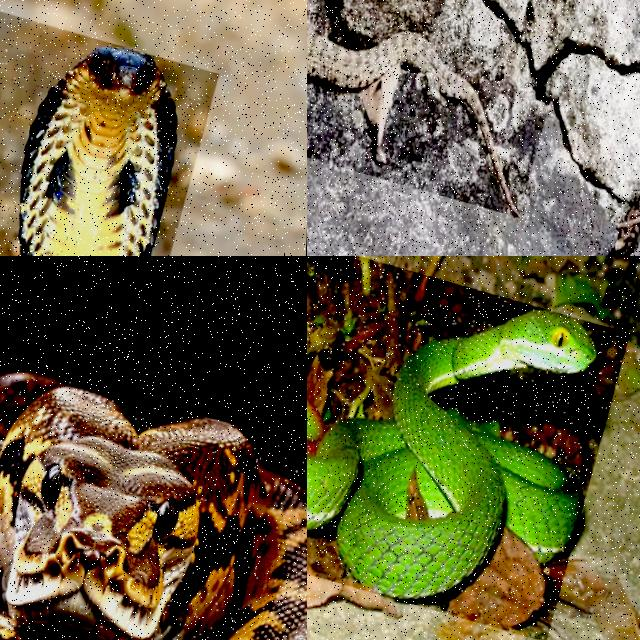Ophiophagus hannah: (19, 47, 177, 255)
Ovophis monticola: (307, 27, 519, 218)
Python bivittatus: (0, 373, 306, 639)
Trimeresurus: (307, 310, 596, 600)
snake: (307, 310, 596, 600), (0, 373, 306, 639), (307, 27, 519, 218), (19, 47, 177, 255)
